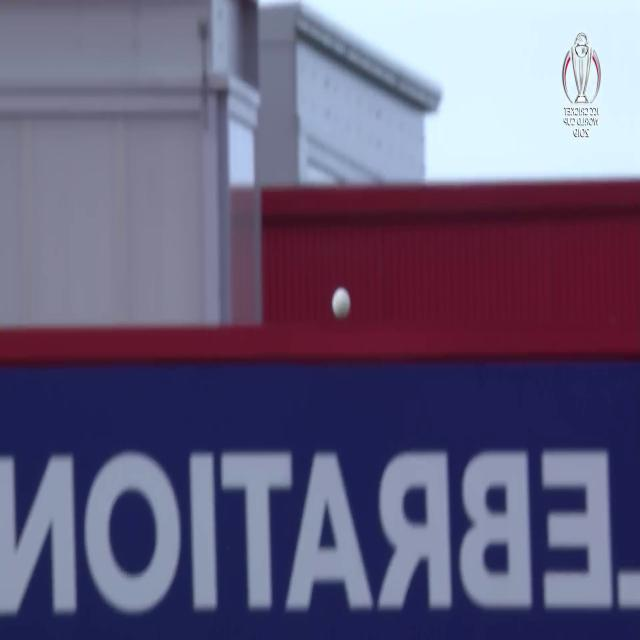ball: (326, 280, 356, 330)
